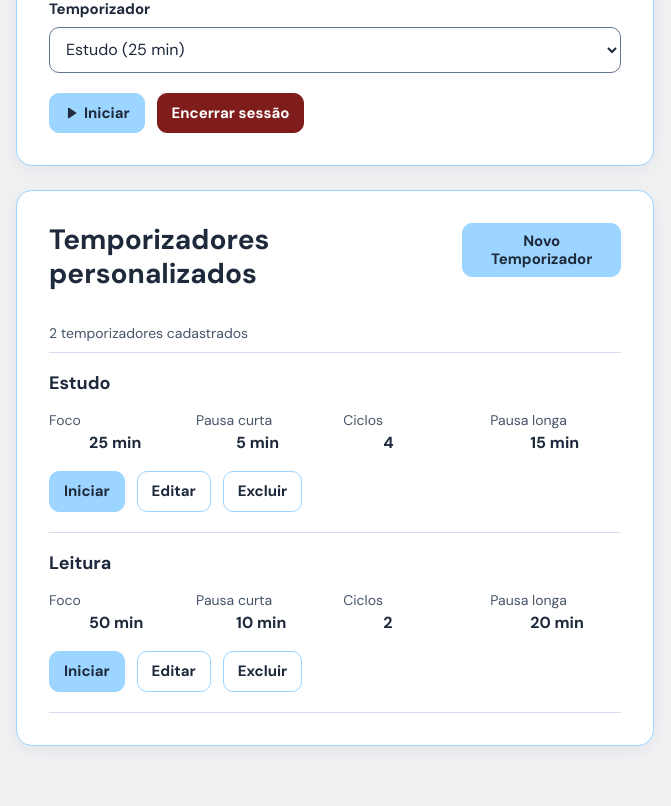
Scenario: App › libera o preset de uma sessão concluída e preserva o snapshot ao editar
The image size is (671, 806).
(page scrolled)
Expected: the button "Excluir" below "25" is enabled, [223,471,302,512]
Click the button "Editar" below "25" at coordinates (174, 492), box [137,471,211,512]
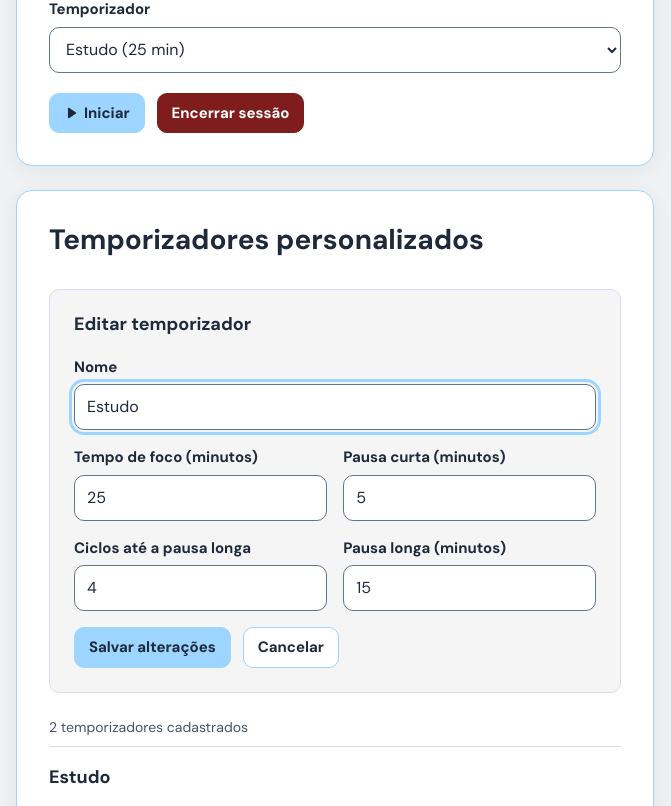
Replace the text in the field labelled "Nome" with "Estudo atualizado" at coordinates (335, 407), box [74,384,596,430]
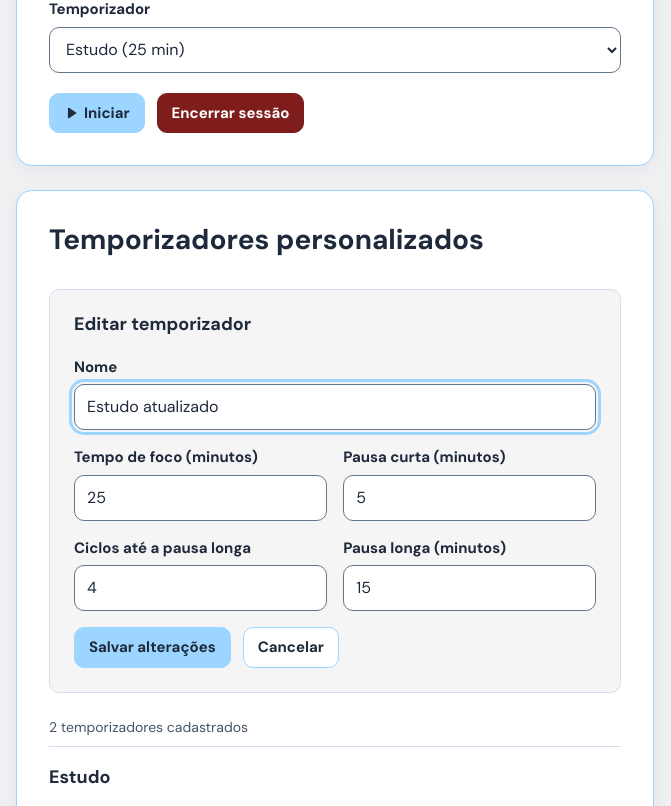
Click the button "Salvar alterações" at coordinates (152, 647), box [74,627,231,668]
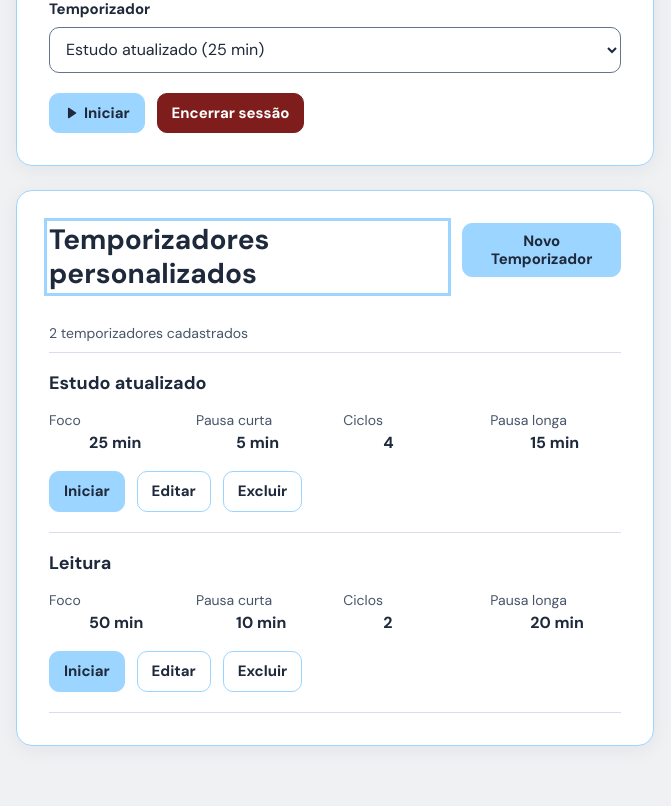
Now the heading "Estudo atualizado" is shown, box [49,373,206,394]
